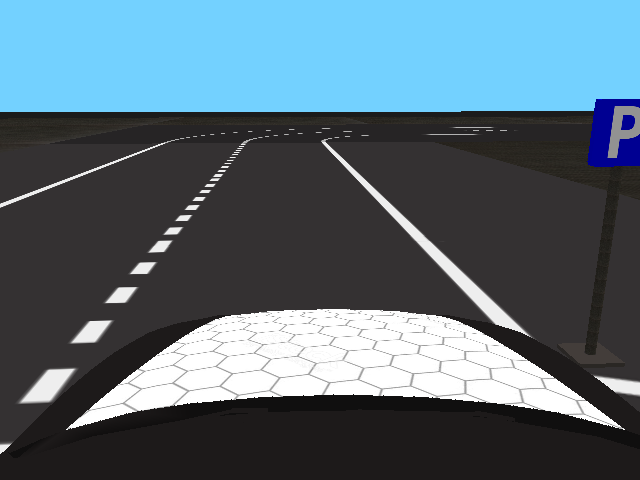parking: (588, 98, 640, 169)
